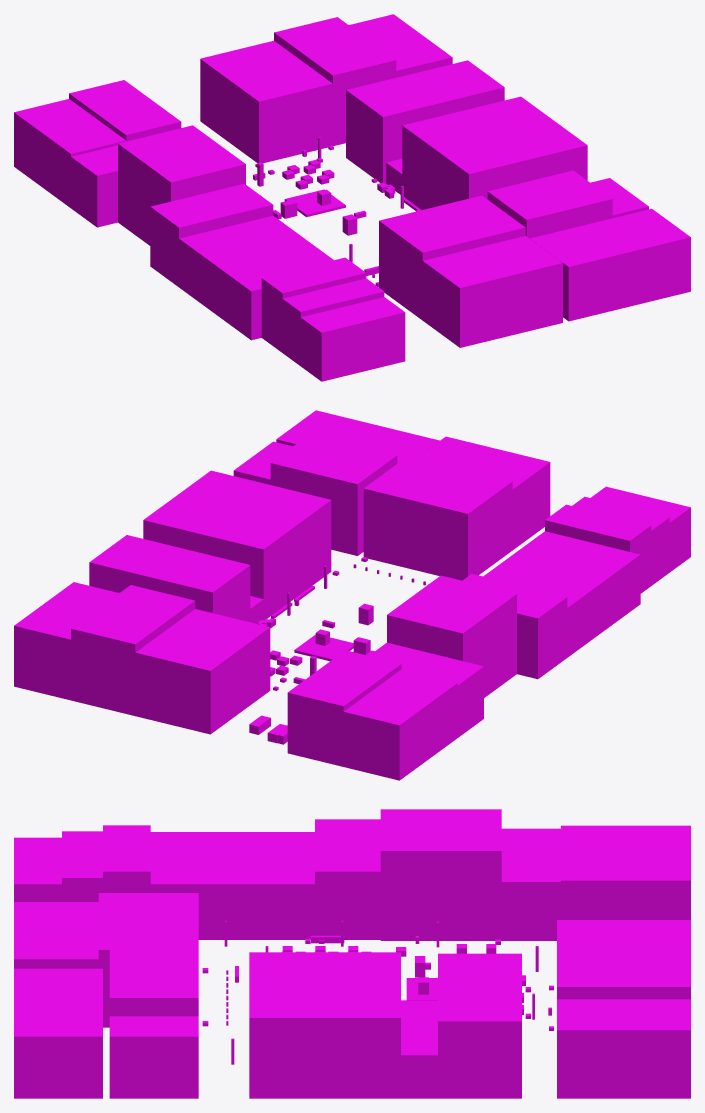
The model's file is fischerbrunnen_colliders.glb.
The picture shows the model from 3 angles, top to bottom: view 1: azimuth 30°, elevation 25°; view 2: azimuth 150°, elevation 25°; view 3: azimuth 270°, elevation 25°; orthographic projection. The views are drawn at different scales.
Visible parts, largest first — view 1: COL_B_E2_Rathaus, COL_B_N1_Schuhhof, COL_B_S2, COL_B_S4, COL_B_W3_Ernstings, COL_B_E1_WeisserStaffelgiebel, COL_B_W1_VeroModa, COL_B_S0_Keimblatt, COL_B_W6_WeisserGiebel, COL_B_NW1, COL_B_N2_Stadtbaeckerei, COL_B_W2_Fellini (+8 smaller); view 2: COL_B_E2_Rathaus, COL_B_S0_Keimblatt, COL_B_N1_Schuhhof, COL_B_W1_VeroModa, COL_B_W3_Ernstings, COL_B_NW1, COL_B_N2_Stadtbaeckerei, COL_B_E1_WeisserStaffelgiebel, COL_B_S1_GelbesHaus, COL_B_NW2, COL_B_N3, COL_B_S2 (+8 smaller); view 3: COL_B_E2_Rathaus, COL_B_W1_VeroModa, COL_B_W3_Ernstings, COL_B_N3, COL_B_E1_WeisserStaffelgiebel, COL_B_S4, COL_B_NW2, COL_B_W2_Fellini, COL_B_S3, COL_B_W0_Modern, COL_B_N2_Stadtbaeckerei, COL_B_S0_Keimblatt (+9 smaller).
Boxes of the visible parts, x1,y1,x2,y2 form: COL_B_E2_Rathaus: (402,96,587,209); COL_B_N1_Schuhhof: (200,40,332,163); COL_B_S2: (422,236,562,347); COL_B_S4: (530,208,690,321); COL_B_W3_Ernstings: (179,215,333,340); COL_B_E1_WeisserStaffelgiebel: (346,60,504,183); COL_B_W1_VeroModa: (118,125,245,245); COL_B_S0_Keimblatt: (379,195,525,320); COL_B_W6_WeisserGiebel: (300,297,405,381); COL_B_NW1: (14,99,126,207); COL_B_N2_Stadtbaeckerei: (274,17,396,146); COL_B_W2_Fellini: (150,183,273,286); COL_B_E2_Rathaus: (143,470,331,620); COL_B_S0_Keimblatt: (363,456,512,580); COL_B_N1_Schuhhof: (135,609,270,734); COL_B_W1_VeroModa: (387,575,516,697); COL_B_W3_Ernstings: (483,531,640,657); COL_B_NW1: (343,669,457,780); COL_B_N2_Stadtbaeckerei: (71,585,195,715); COL_B_E1_WeisserStaffelgiebel: (89,535,250,621); COL_B_S1_GelbesHaus: (270,434,397,555); COL_B_NW2: (287,650,401,766); COL_B_N3: (14,582,118,700); COL_B_S2: (417,436,550,549); COL_B_E2_Rathaus: (249,952,400,1098); COL_B_W1_VeroModa: (380,809,501,940); COL_B_W3_Ernstings: (150,832,314,939); COL_B_N3: (557,999,690,1098); COL_B_E1_WeisserStaffelgiebel: (438,953,521,1098); COL_B_S4: (14,968,102,1098); COL_B_NW2: (561,850,690,919); COL_B_W2_Fellini: (315,819,380,939); COL_B_S3: (109,1016,198,1098); COL_B_W0_Modern: (501,828,560,940); COL_B_N2_Stadtbaeckerei: (557,951,690,999); COL_B_S0_Keimblatt: (98,893,198,1027).
Bounding box in the file's own units: 73 × 14.5 × 99.
